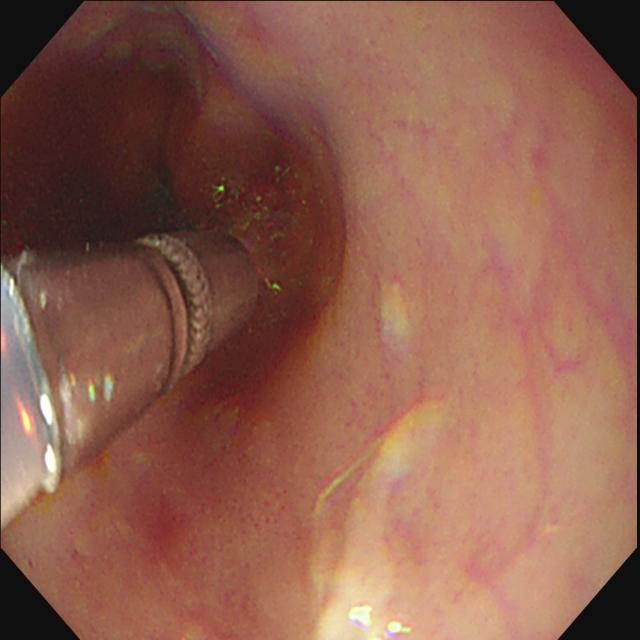J: (308, 396, 449, 640), (378, 279, 417, 361)
K: (2, 231, 261, 536)
U: (384, 621, 414, 640), (350, 605, 374, 627)
